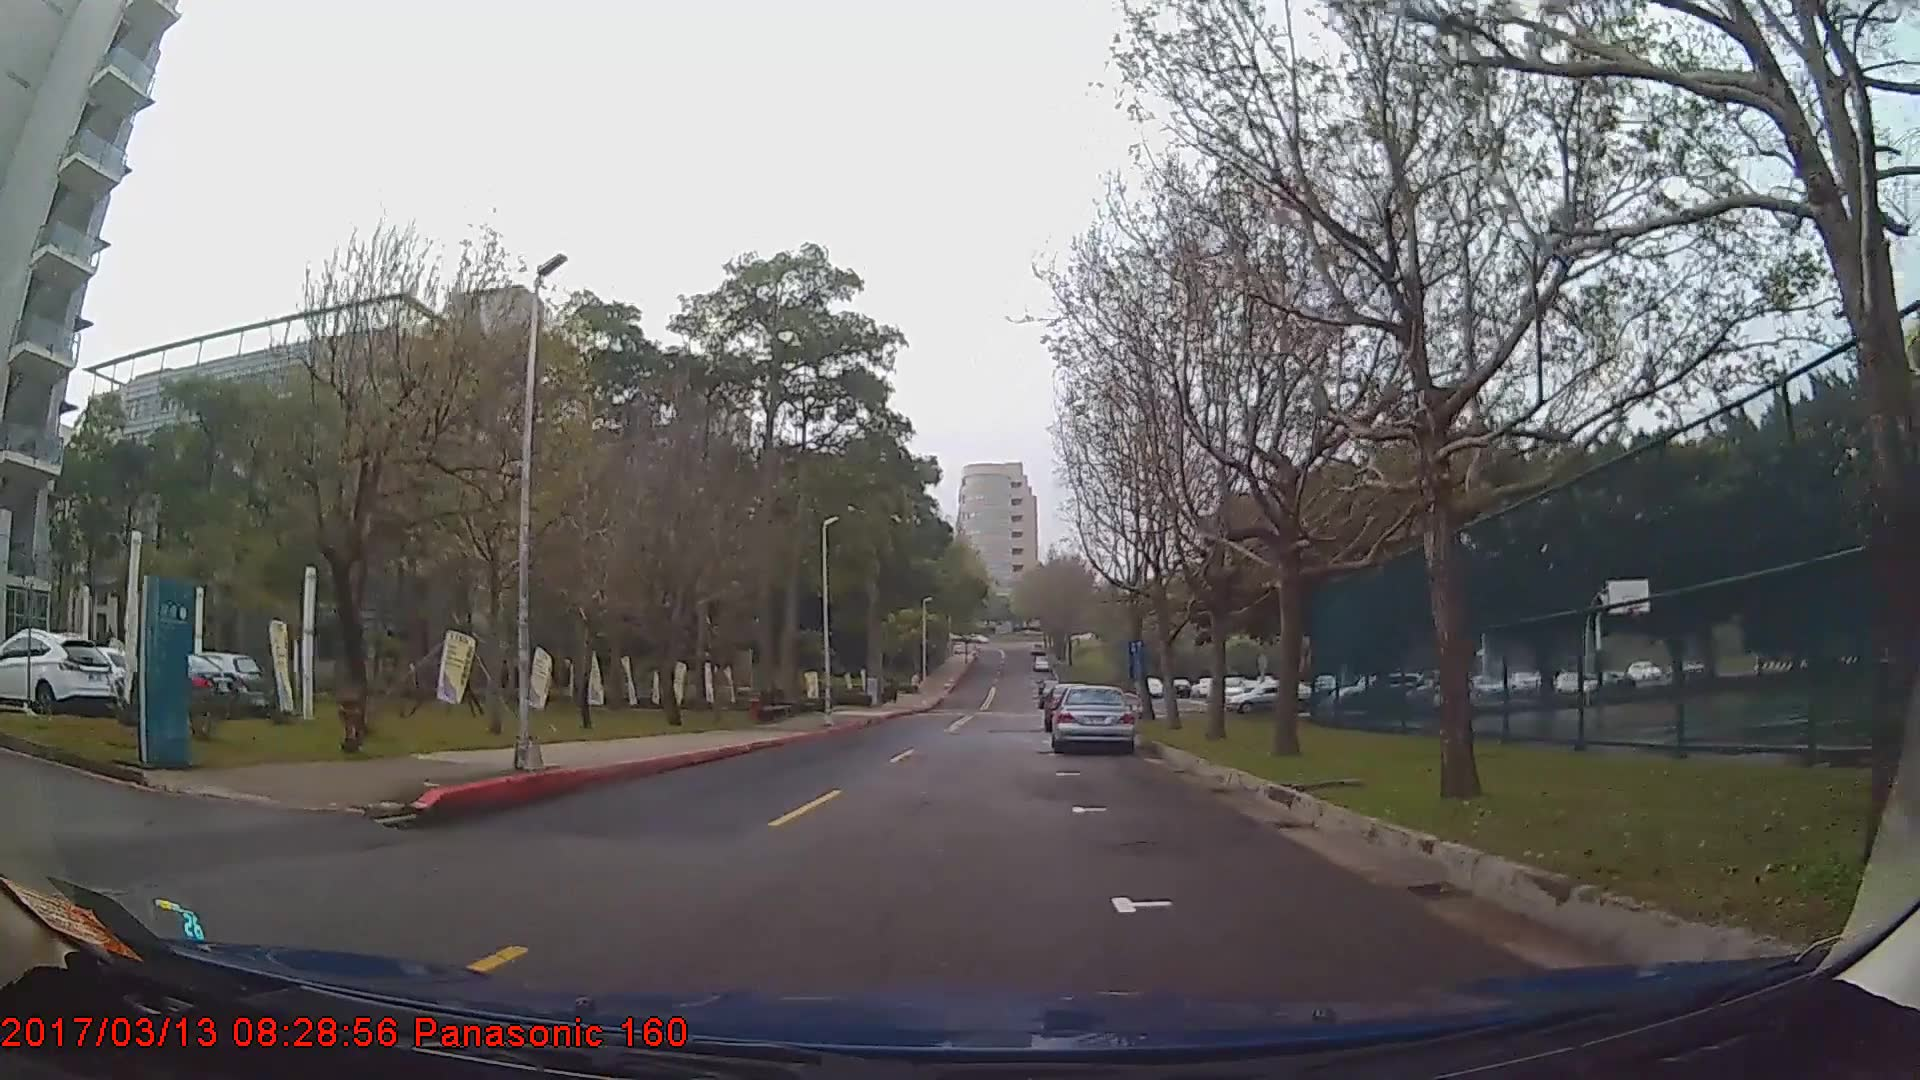vehicle: (0, 626, 115, 715), (46, 641, 162, 712), (1050, 683, 1135, 754), (194, 649, 272, 715)
